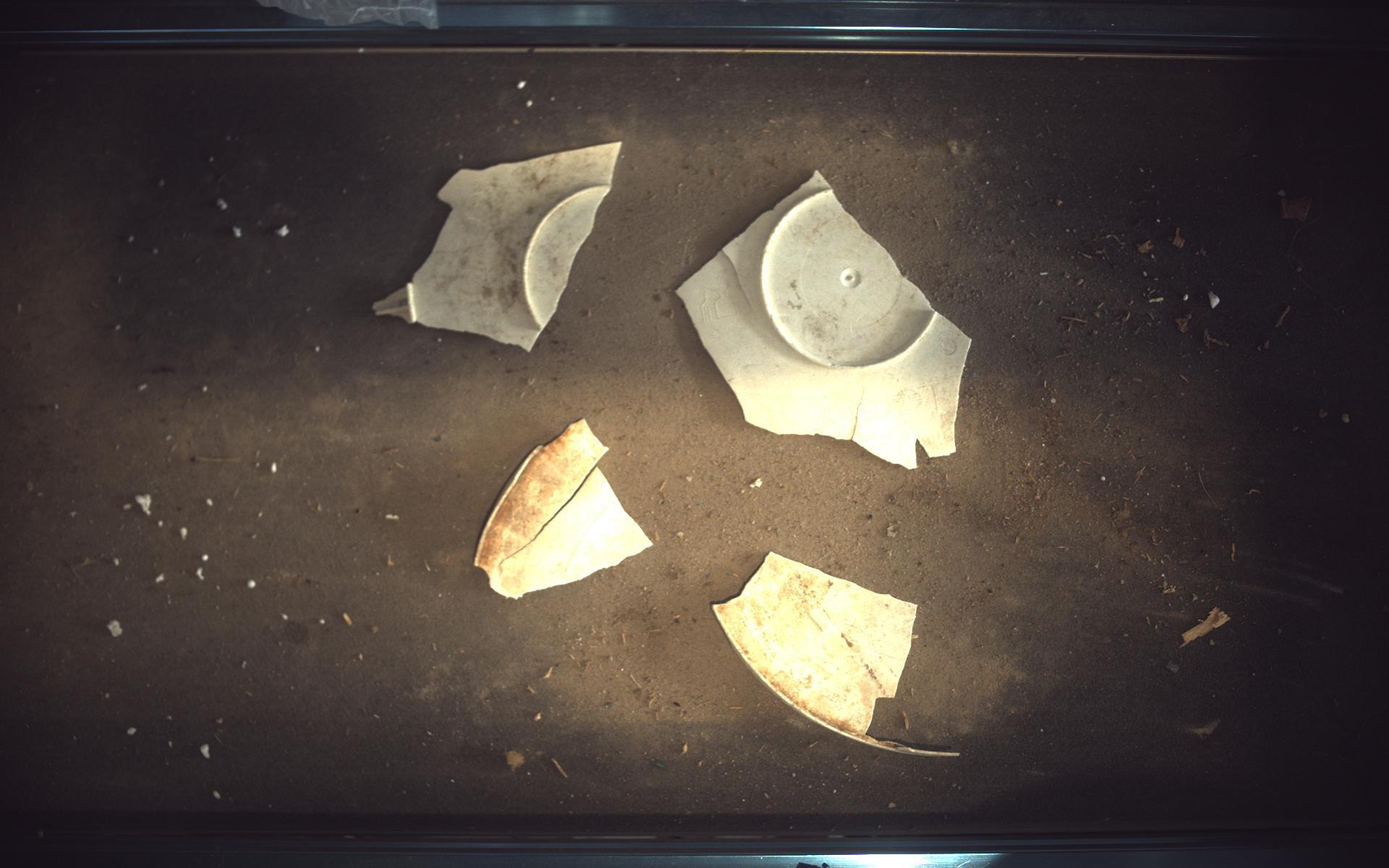plastic: (679, 171, 972, 469), (373, 141, 621, 351), (714, 553, 961, 759), (475, 420, 653, 598)
